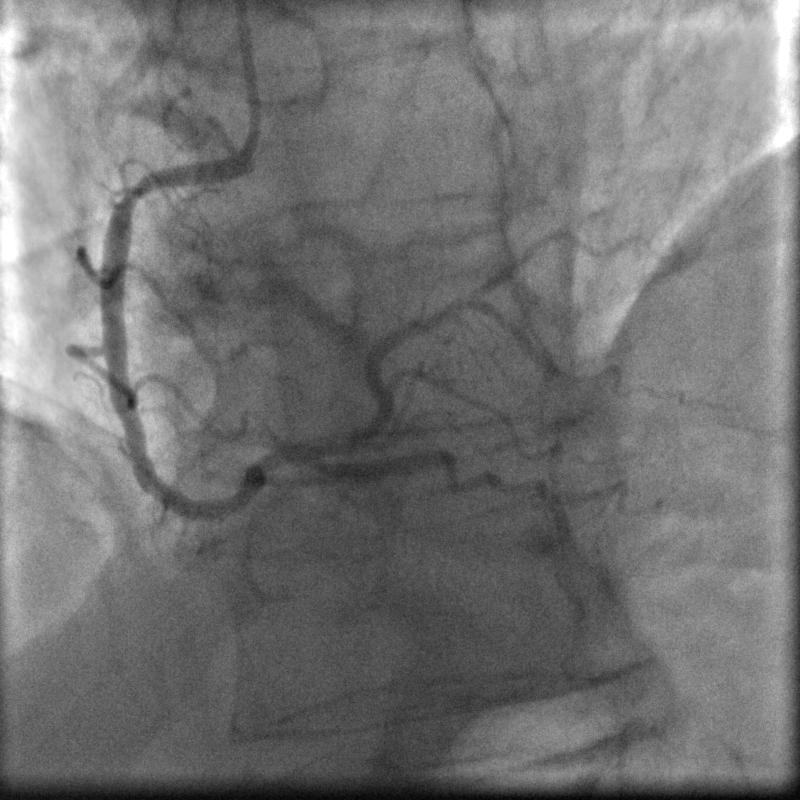Stenosis: (116, 170, 157, 211)
